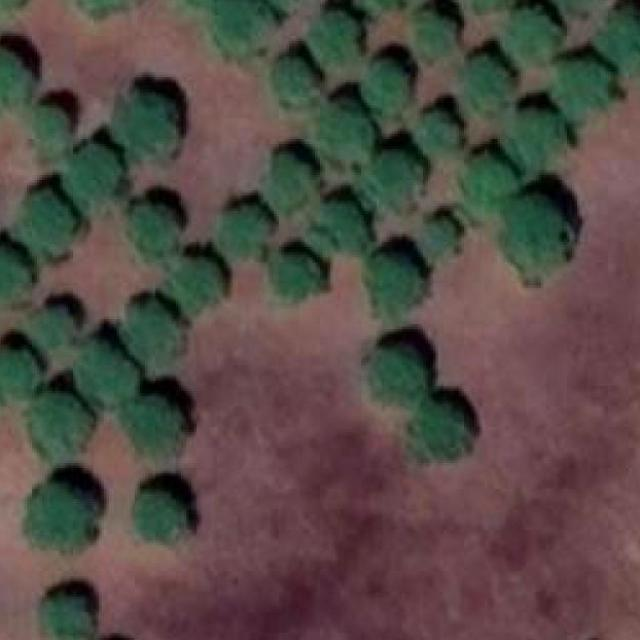Tree: (502, 198, 562, 276), (113, 92, 178, 158), (27, 486, 86, 552), (32, 394, 88, 456), (75, 343, 135, 399), (305, 201, 366, 255), (361, 154, 418, 211), (507, 111, 564, 168), (370, 347, 425, 406), (132, 306, 178, 376), (368, 254, 420, 314), (315, 103, 371, 157), (65, 147, 119, 202), (557, 59, 606, 118), (410, 408, 466, 458), (217, 0, 271, 51), (22, 196, 73, 250), (268, 252, 322, 302), (265, 154, 312, 211), (307, 10, 358, 62), (461, 157, 512, 209), (168, 255, 219, 307), (130, 399, 181, 451), (222, 204, 274, 255), (505, 10, 555, 57), (363, 62, 410, 111), (600, 10, 640, 67), (135, 492, 184, 538), (463, 59, 507, 108), (42, 597, 92, 640), (414, 10, 456, 57), (32, 106, 68, 160), (128, 206, 172, 250), (0, 352, 37, 401), (274, 60, 312, 104), (29, 308, 75, 344), (0, 51, 30, 106), (415, 113, 459, 149), (0, 249, 27, 298), (420, 221, 454, 255), (359, 0, 418, 13)
